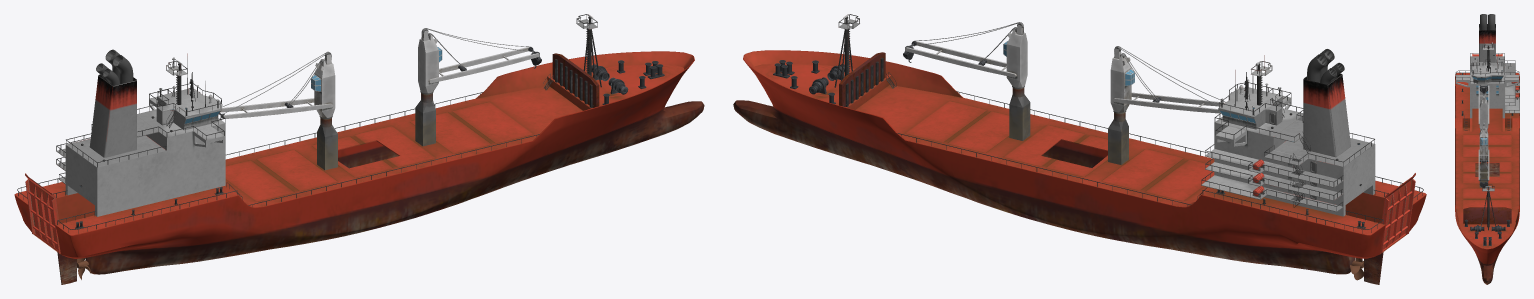
Rendered from Ship.fbx.
The picture shows the model from 3 angles, left to right: view 1: azimuth 30°, elevation 25°; view 2: azimuth 150°, elevation 25°; view 3: azimuth 270°, elevation 25°; orthographic projection. The views are drawn at different scales.
Visible parts, largest first — view 1: Object_9; view 2: Object_9; view 3: Object_9.
Boxes of the visible parts, bbox=[...] form: Object_9: bbox=[14, 14, 704, 284]; Object_9: bbox=[733, 14, 1426, 284]; Object_9: bbox=[1455, 14, 1519, 284].
Bounding box in the file's own units: 4721 × 1477 × 715.
1 material, 1 textured.
